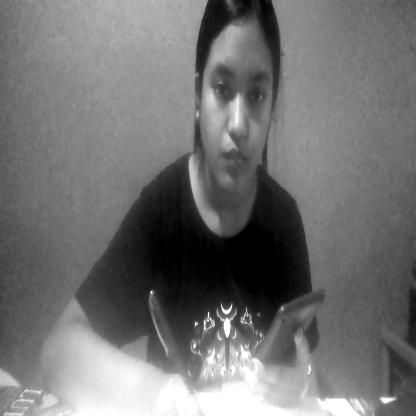Normal: (193, 6, 281, 190)
